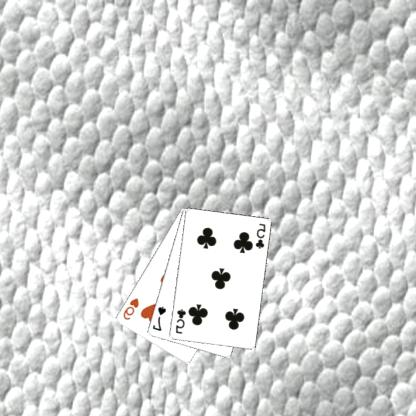5C: (174, 307, 188, 335), (255, 222, 268, 250)
6H: (122, 296, 142, 321)
7S: (151, 304, 169, 332)
